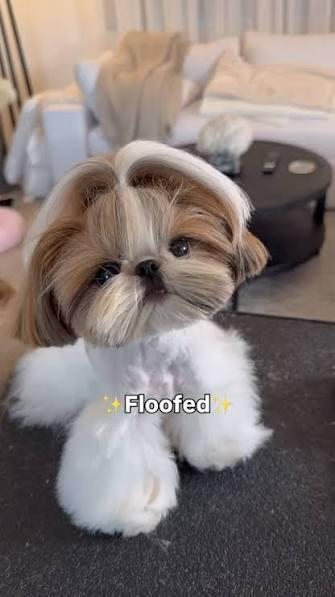puppy-dog: (9, 141, 270, 535), (10, 141, 270, 535)
